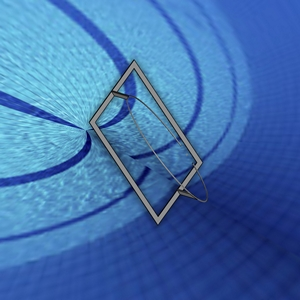circle: (87, 58, 212, 226)
